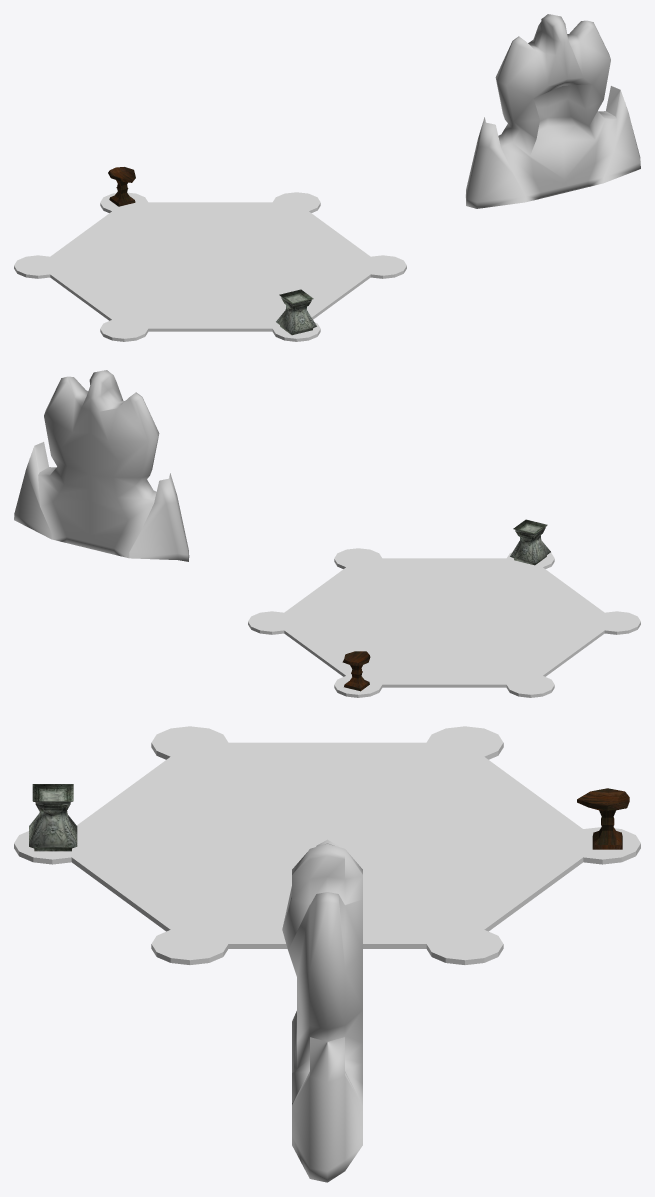
File: Infusion Altar.fbx
3 views of the same model, one above another, from view 1: azimuth 30°, elevation 25°; view 2: azimuth 150°, elevation 25°; view 3: azimuth 270°, elevation 25° (orthographic). The views are drawn at different scales.
Parts seen in each view (by area): view 1: Infusion Altar base, shrine, Fancy Pedestal, Outer Pedestal; view 2: Infusion Altar base, shrine, Fancy Pedestal, Outer Pedestal; view 3: Infusion Altar base, shrine, Fancy Pedestal, Outer Pedestal.
Boxes of the visible parts, box(x1,y1,x2,y2) form: Infusion Altar base: box(14, 192, 406, 341); shrine: box(465, 14, 640, 208); Fancy Pedestal: box(276, 289, 316, 335); Outer Pedestal: box(108, 167, 135, 206); Infusion Altar base: box(248, 548, 640, 697); shrine: box(14, 370, 189, 561); Fancy Pedestal: box(510, 519, 550, 565); Outer Pedestal: box(342, 651, 370, 691); Infusion Altar base: box(14, 726, 640, 964); shrine: box(282, 839, 362, 1182); Fancy Pedestal: box(29, 784, 77, 851); Outer Pedestal: box(577, 788, 629, 849).
Bounding box in the file's own units: 972 × 570 × 272.
